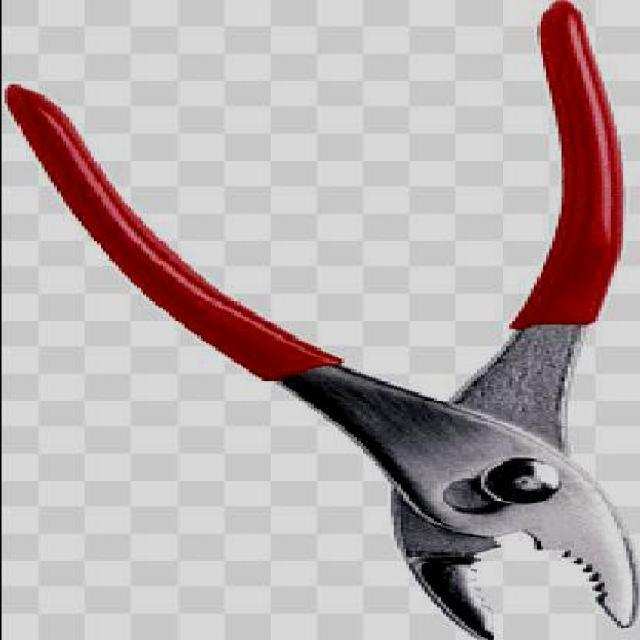pliers: (6, 0, 638, 635)
